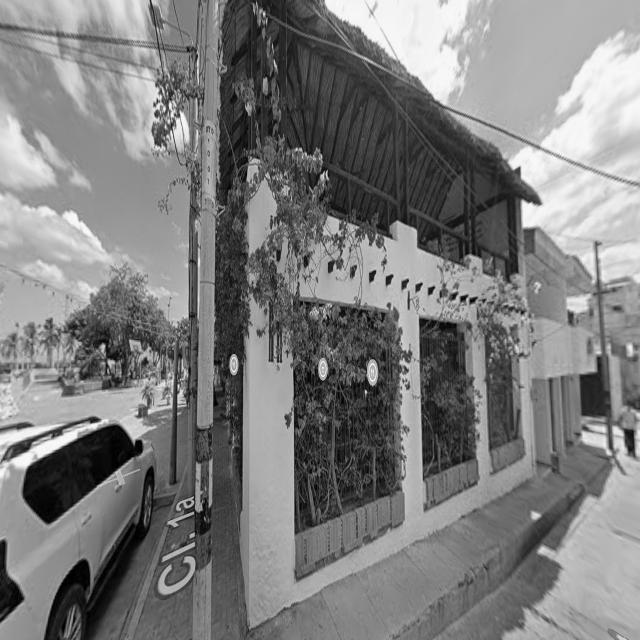Fachada: (215, 0, 539, 627), (523, 228, 595, 463)
Poste: (192, 0, 218, 639)
